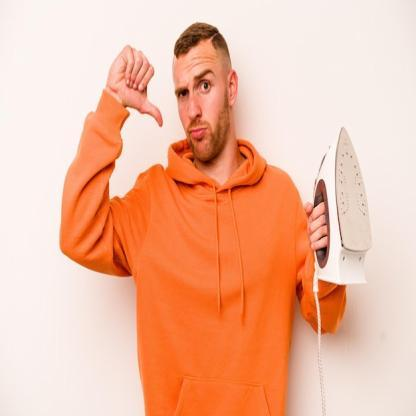thumb_down: (108, 42, 166, 130)
